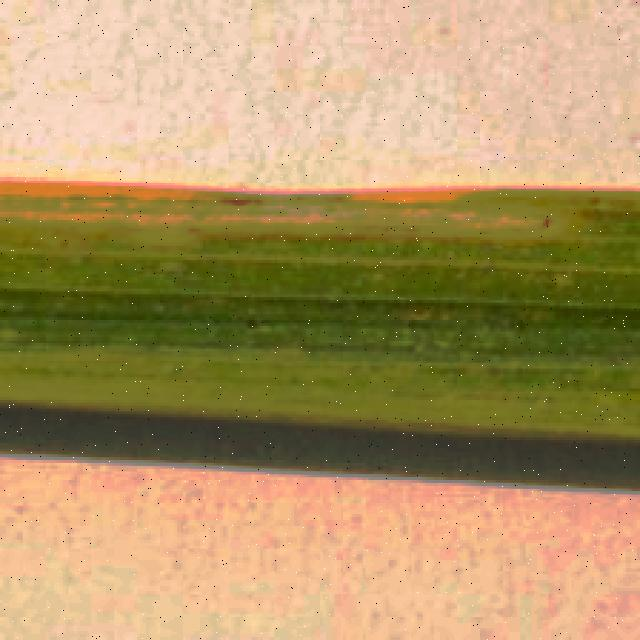unhealth: (0, 178, 640, 443)
